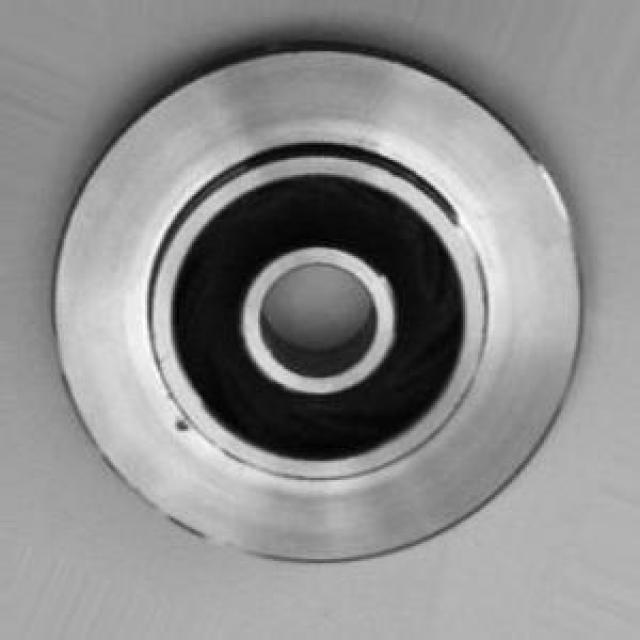Defect: (174, 413, 195, 446)
